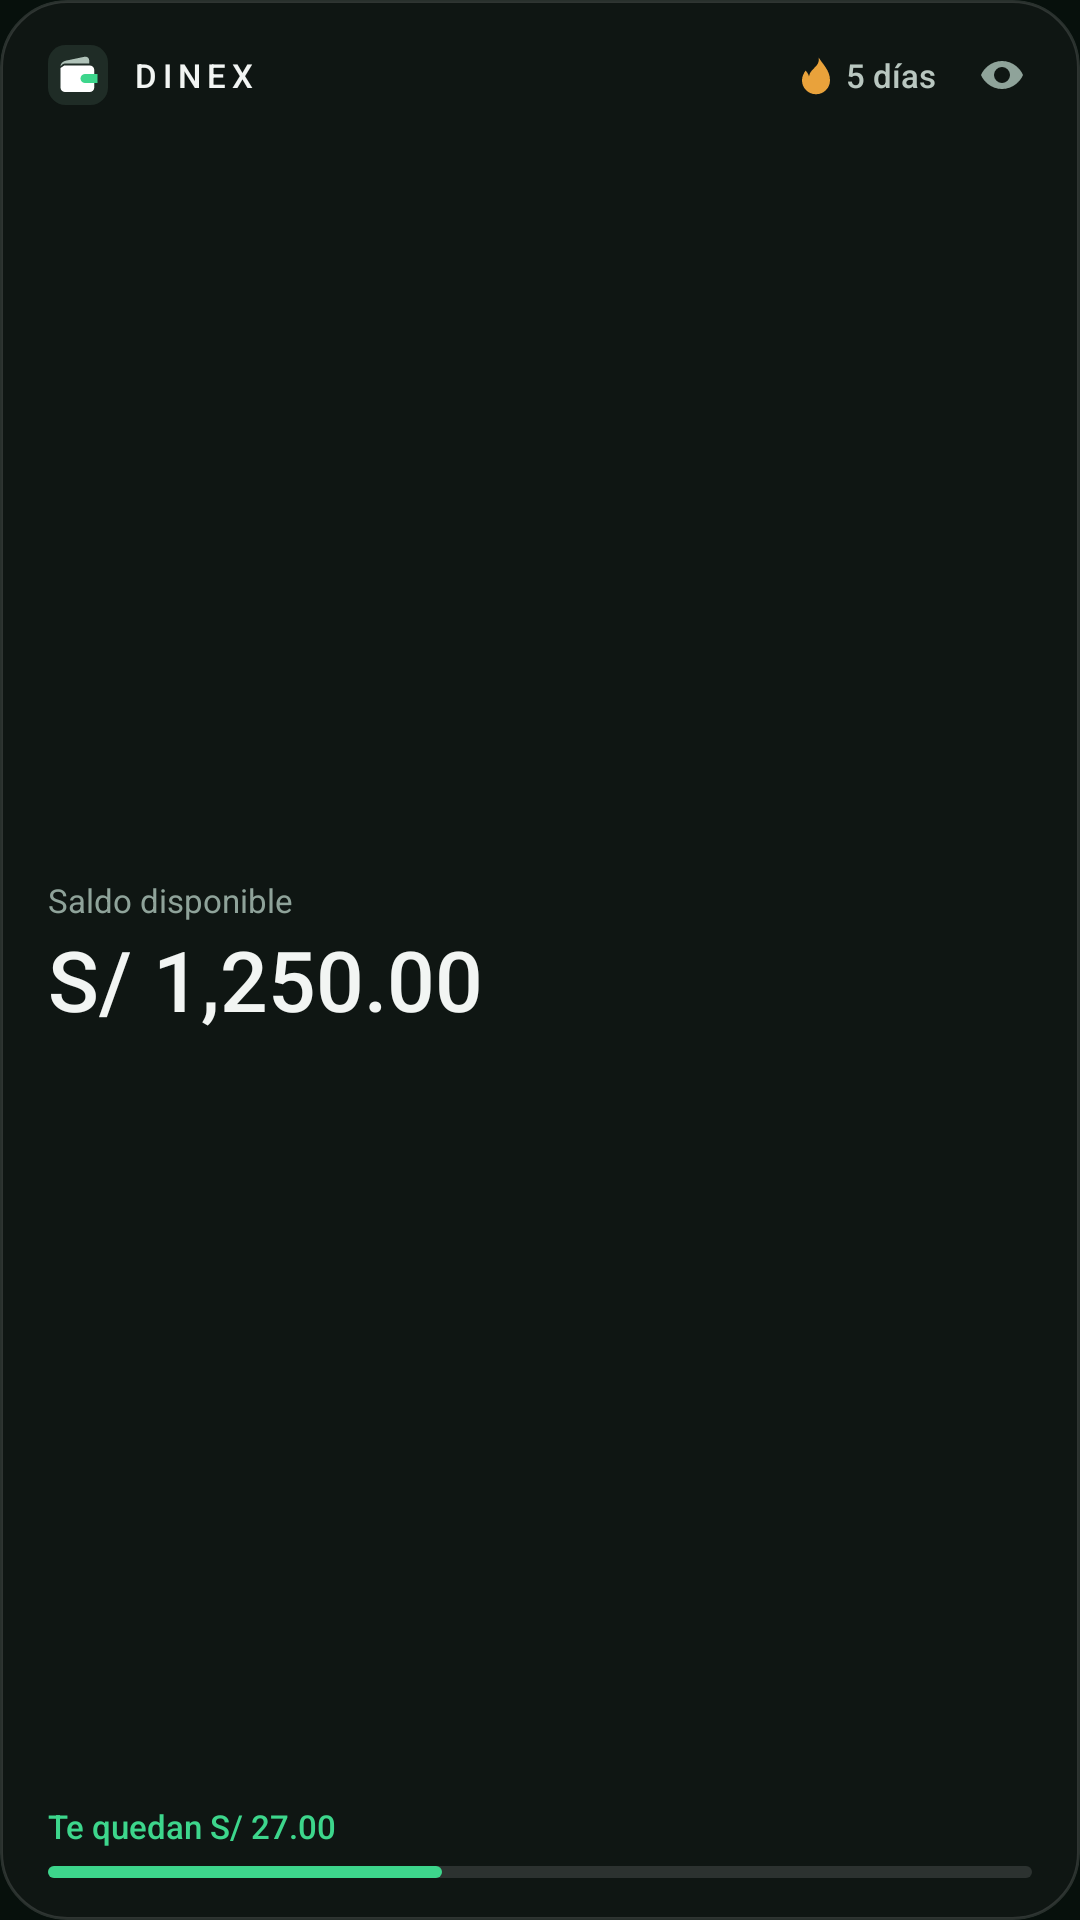

Locate icon controls on the screen. Image size 1080x1920, boxes as (x1, y1, x2, y2).
Mostrar u ocultar montos: (981, 61, 1023, 89)
